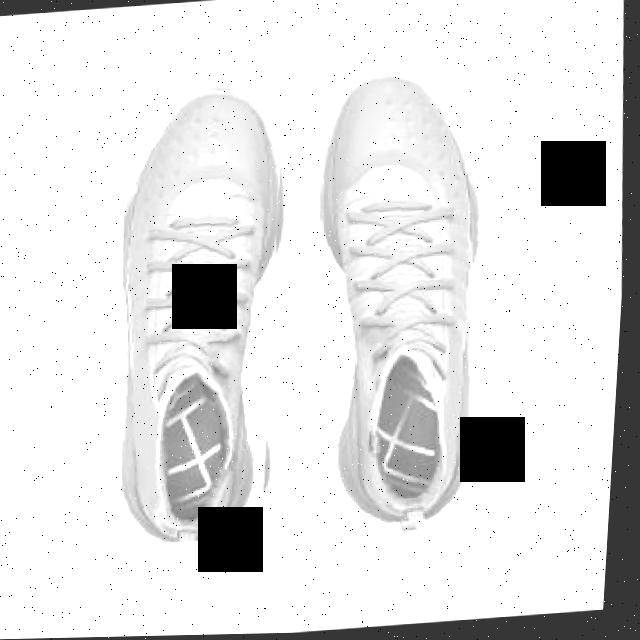shoe: (104, 81, 310, 548), (301, 67, 505, 530)
